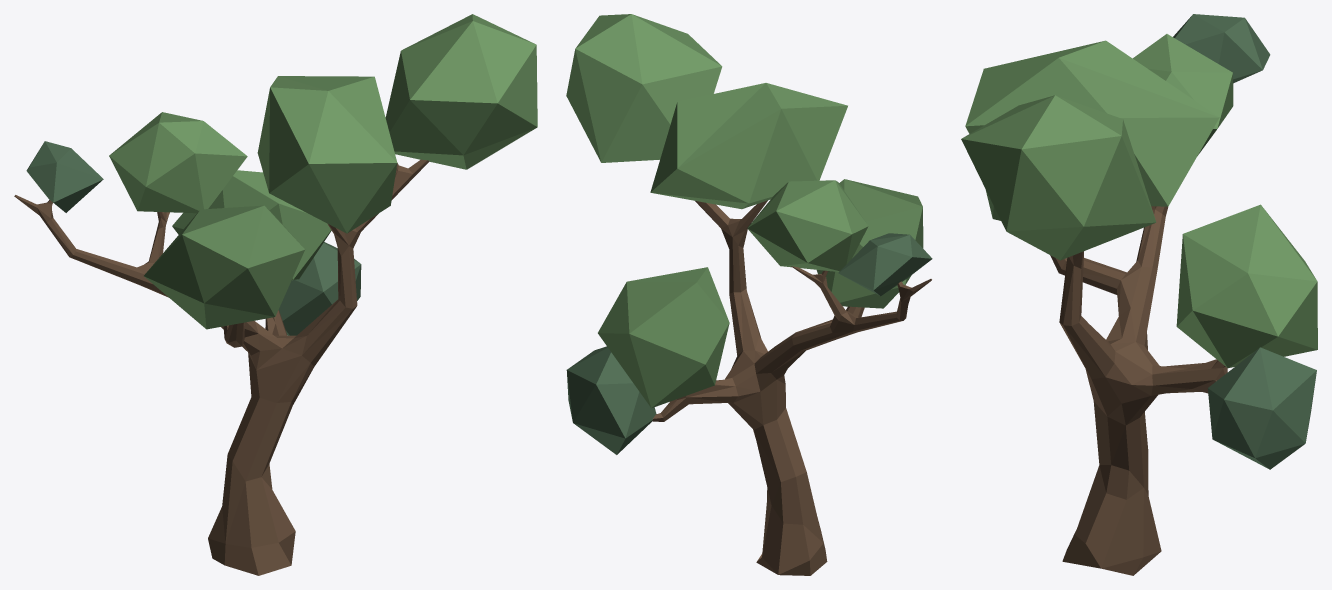
The model's file is tree3.fbx.
3 views of the same model, side by side, from view 1: azimuth 30°, elevation 25°; view 2: azimuth 150°, elevation 25°; view 3: azimuth 270°, elevation 25° (orthographic). The views are drawn at different scales.
Visible parts, largest first — view 1: Circle.010; view 2: Circle.010; view 3: Circle.010.
Boxes of the visible parts, box(x1,y1,x2,y2) form: Circle.010: box(14, 14, 537, 575); Circle.010: box(566, 14, 932, 575); Circle.010: box(961, 14, 1317, 575).
Bounding box in the file's own units: 2.78 × 3.06 × 1.73.
